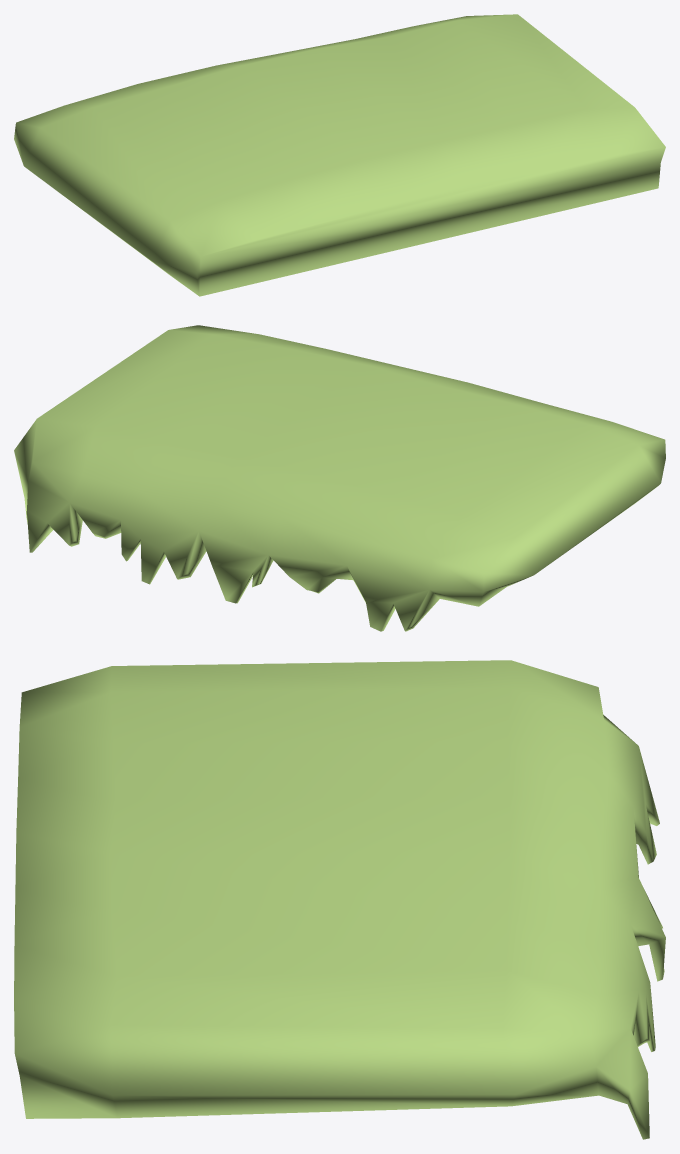
Rendered from platform_mid.fbx.
The picture shows the model from 3 angles, top to bottom: view 1: azimuth 30°, elevation 25°; view 2: azimuth 150°, elevation 25°; view 3: azimuth 270°, elevation 25°; orthographic projection. The views are drawn at different scales.
Visible parts, largest first — view 1: platform_mid; view 2: platform_mid; view 3: platform_mid.
Part boxes in pixels (bbox=[...]): platform_mid: bbox=[14, 14, 665, 296]; platform_mid: bbox=[14, 325, 665, 631]; platform_mid: bbox=[14, 660, 665, 1139].
Size of the model in its own units: 1691 by 329 by 1178.
